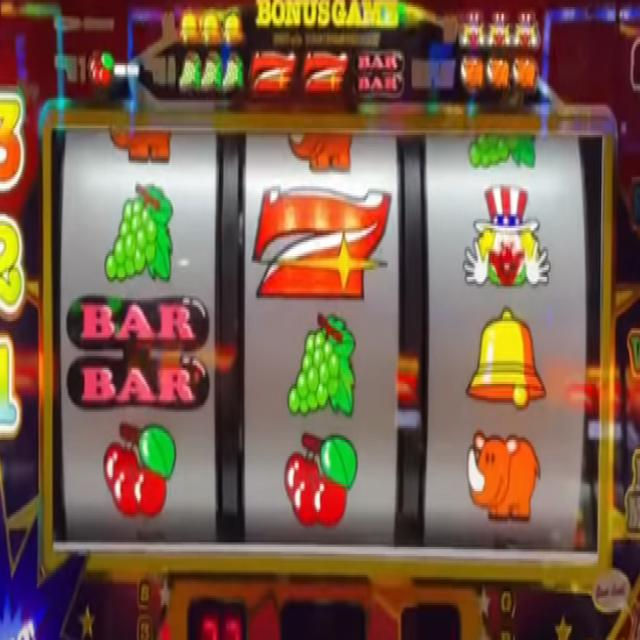bar: (64, 291, 210, 411), (351, 47, 406, 99)
bell: (463, 306, 547, 414), (220, 8, 243, 44), (180, 8, 198, 46), (200, 11, 220, 44)
cherry: (282, 430, 360, 531), (102, 418, 176, 521), (88, 49, 115, 90)
clown: (460, 182, 550, 292), (484, 10, 513, 48), (459, 10, 484, 48), (515, 11, 540, 49)
display: (48, 121, 605, 562)
elephant: (464, 429, 542, 526), (286, 127, 355, 172), (108, 124, 176, 166), (511, 54, 539, 95), (459, 55, 484, 94), (486, 53, 509, 93)
grape: (286, 308, 357, 422), (102, 178, 174, 288), (468, 134, 537, 178), (222, 52, 244, 94), (178, 53, 200, 92), (201, 53, 222, 93)
z: (252, 181, 393, 302), (302, 44, 349, 103), (247, 48, 298, 99)
